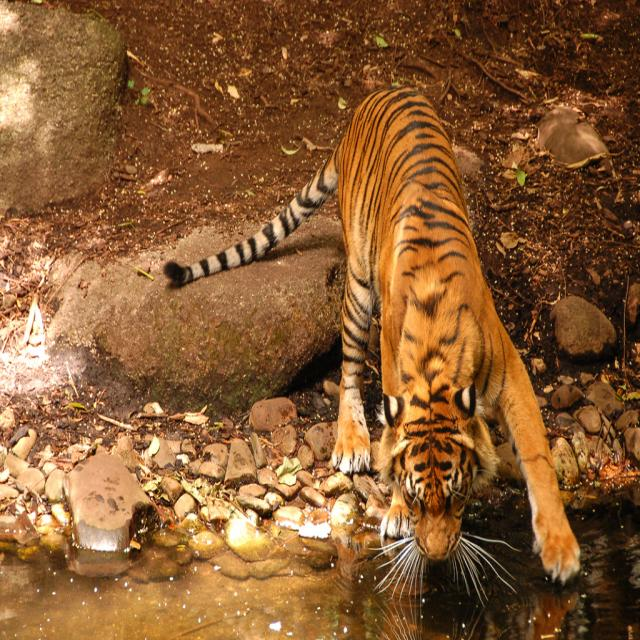Tiger: (163, 82, 584, 583)
